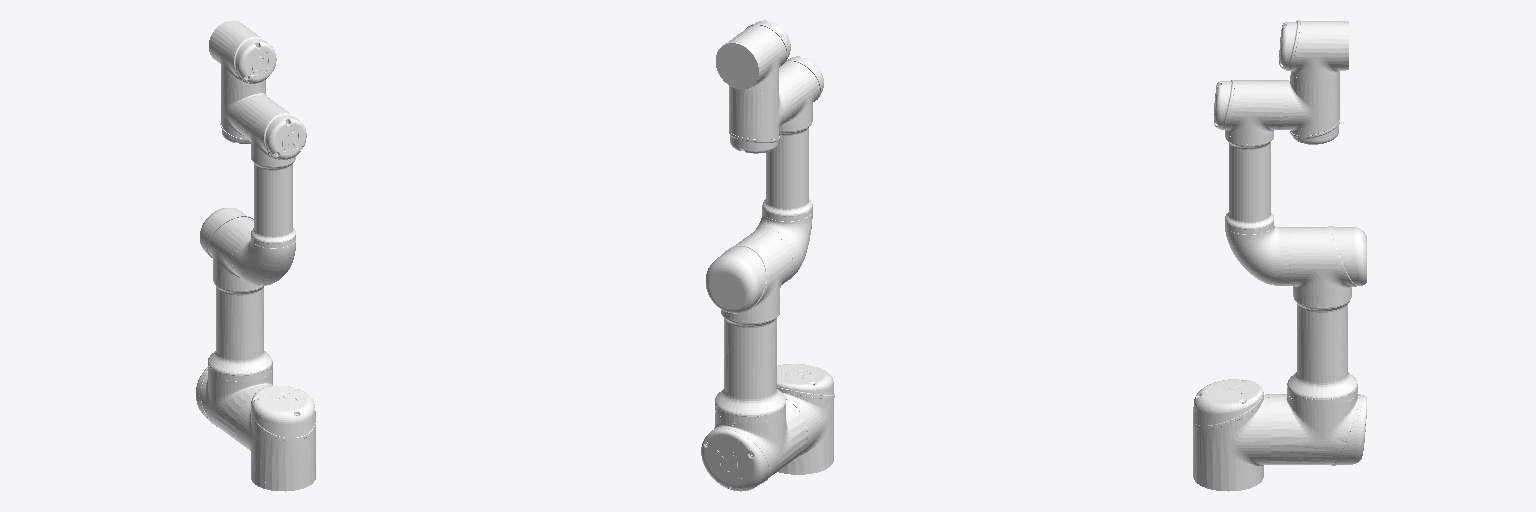
robot.urdf — UR3:
<robot
  name="UR3">
  <link
    name="base_link">
    <inertial>
      <origin
        xyz="3.9271E-05 0.04622 0.00080839"
        rpy="0 0 0" />
      <mass
        value="0.61579" />
      <inertia
        ixx="0.00079865"
        ixy="9.7917E-07"
        ixz="-1.4612E-06"
        iyy="0.001032"
        iyz="1.9027E-05"
        izz="0.00078297" />
    </inertial>
    <visual>
      <origin
        xyz="0 0 0"
        rpy="0 0 0" />
      <geometry>
        <mesh
          filename="package://UR3/meshes/base_link.STL" />
      </geometry>
      <material
        name="">
        <color
          rgba="1 1 1 1" />
      </material>
    </visual>
    <collision>
      <origin
        xyz="0 0 0"
        rpy="0 0 0" />
      <geometry>
        <mesh
          filename="package://UR3/meshes/base_link.STL" />
      </geometry>
    </collision>
  </link>
  <link
    name="link1">
    <inertial>
      <origin
        xyz="-1.0714E-05 0.055942 0.0073314"
        rpy="0 0 0" />
      <mass
        value="0.75586" />
      <inertia
        ixx="0.0012076"
        ixy="1.5182E-07"
        ixz="1.1041E-07"
        iyy="0.00091335"
        iyz="-0.00010158"
        izz="0.0011222" />
    </inertial>
    <visual>
      <origin
        xyz="0 0 0"
        rpy="0 0 0" />
      <geometry>
        <mesh
          filename="package://UR3/meshes/link1.STL" />
      </geometry>
      <material
        name="">
        <color
          rgba="1 1 1 1" />
      </material>
    </visual>
    <collision>
      <origin
        xyz="0 0 0"
        rpy="0 0 0" />
      <geometry>
        <mesh
          filename="package://UR3/meshes/link1.STL" />
      </geometry>
    </collision>
  </link>
  <joint
    name="joint1"
    type="revolute">
    <origin
      xyz="0 0 0.0844"
      rpy="1.5708 5.6655E-16 -3.1416" />
    <parent
      link="base_link" />
    <child
      link="link1" />
    <axis
      xyz="0 1 0" />
    <limit
      lower="-3.14"
      upper="3.14"
      effort="1000"
      velocity="1" />
  </joint>
  <link
    name="link2">
    <inertial>
      <origin
        xyz="-4.188E-06 0.064249 0.1057"
        rpy="0 0 0" />
      <mass
        value="1.8019" />
      <inertia
        ixx="0.01936"
        ixy="8.8945E-08"
        ixz="-7.4473E-07"
        iyy="0.018785"
        iyz="-0.0013523"
        izz="0.0021134" />
    </inertial>
    <visual>
      <origin
        xyz="0 0 0"
        rpy="0 0 0" />
      <geometry>
        <mesh
          filename="package://UR3/meshes/link2.STL" />
      </geometry>
      <material
        name="">
        <color
          rgba="1 1 1 1" />
      </material>
    </visual>
    <collision>
      <origin
        xyz="0 0 0"
        rpy="0 0 0" />
      <geometry>
        <mesh
          filename="package://UR3/meshes/link2.STL" />
      </geometry>
    </collision>
  </link>
  <joint
    name="joint2"
    type="revolute">
    <origin
      xyz="0 0.0675 0.05235"
      rpy="1.5708 0 -3.1416" />
    <parent
      link="link1" />
    <child
      link="link2" />
    <axis
      xyz="0 -1 0" />
    <limit
      lower="-3.14"
      upper="3.14"
      effort="1000"
      velocity="1" />
  </joint>
  <link
    name="link3">
    <inertial>
      <origin
        xyz="-0.0051445 -0.1112 7.0153E-08"
        rpy="0 0 0" />
      <mass
        value="0.96225" />
      <inertia
        ixx="0.0071078"
        ixy="0.00058643"
        ixz="8.7729E-10"
        iyy="0.00067153"
        iyz="5.7985E-09"
        izz="0.0072945" />
    </inertial>
    <visual>
      <origin
        xyz="0 0 0"
        rpy="0 0 0" />
      <geometry>
        <mesh
          filename="package://UR3/meshes/link3.STL" />
      </geometry>
      <material
        name="">
        <color
          rgba="1 1 1 1" />
      </material>
    </visual>
    <collision>
      <origin
        xyz="0 0 0"
        rpy="0 0 0" />
      <geometry>
        <mesh
          filename="package://UR3/meshes/link3.STL" />
      </geometry>
    </collision>
  </link>
  <joint
    name="joint3"
    type="revolute">
    <origin
      xyz="0 -0.02535 0.24365"
      rpy="-1.5708 7.4983E-33 -1.5708" />
    <parent
      link="link2" />
    <child
      link="link3" />
    <axis
      xyz="1 0 0" />
    <limit
      lower="-3.14"
      upper="3.14"
      effort="1000"
      velocity="1" />
  </joint>
  <link
    name="link4">
    <inertial>
      <origin
        xyz="0.0059213 -0.00051763 2.6076E-07"
        rpy="0 0 0" />
      <mass
        value="0.32523" />
      <inertia
        ixx="0.00026155"
        ixy="1.7566E-06"
        ixz="-1.985E-09"
        iyy="0.00020549"
        iyz="-4.0128E-10"
        izz="0.00029955" />
    </inertial>
    <visual>
      <origin
        xyz="0 0 0"
        rpy="0 0 0" />
      <geometry>
        <mesh
          filename="package://UR3/meshes/link4.STL" />
      </geometry>
      <material
        name="">
        <color
          rgba="1 1 1 1" />
      </material>
    </visual>
    <collision>
      <origin
        xyz="0 0 0"
        rpy="0 0 0" />
      <geometry>
        <mesh
          filename="package://UR3/meshes/link4.STL" />
      </geometry>
    </collision>
  </link>
  <joint
    name="joint4"
    type="revolute">
    <origin
      xyz="-0.0834 -0.213 0"
      rpy="-3.1416 -4.9304E-32 -7.4983E-33" />
    <parent
      link="link3" />
    <child
      link="link4" />
    <axis
      xyz="1 0 0" />
    <limit
      lower="-3.14"
      upper="3.14"
      effort="1000"
      velocity="1" />
  </joint>
  <link
    name="link5">
    <inertial>
      <origin
        xyz="0.0059213 0.00051762 -2.3715E-07"
        rpy="0 0 0" />
      <mass
        value="0.32523" />
      <inertia
        ixx="0.00026155"
        ixy="-1.7566E-06"
        ixz="1.9216E-09"
        iyy="0.00020549"
        iyz="-2.2402E-10"
        izz="0.00029955" />
    </inertial>
    <visual>
      <origin
        xyz="0 0 0"
        rpy="0 0 0" />
      <geometry>
        <mesh
          filename="package://UR3/meshes/link5.STL" />
      </geometry>
      <material
        name="">
        <color
          rgba="1 1 1 1" />
      </material>
    </visual>
    <collision>
      <origin
        xyz="0 0 0"
        rpy="0 0 0" />
      <geometry>
        <mesh
          filename="package://UR3/meshes/link5.STL" />
      </geometry>
    </collision>
  </link>
  <joint
    name="joint5"
    type="revolute">
    <origin
      xyz="0 0.0834 0"
      rpy="0 -3.8286E-16 -1.5708" />
    <parent
      link="link4" />
    <child
      link="link5" />
    <axis
      xyz="-1 0 0" />
    <limit
      lower="-3.14"
      upper="3.14"
      effort="1000"
      velocity="1" />
  </joint>
  <link
    name="link6">
    <inertial>
      <origin
        xyz="-3.46804228061008E-11 0.000103305759071359 -0.0210729037197397"
        rpy="0 0 0" />
      <mass
        value="0.115355247302088" />
      <inertia
        ixx="4.32035974170685E-05"
        ixy="5.78060845199704E-13"
        ixz="-1.19995191654452E-12"
        iyy="4.34162196022354E-05"
        iyz="1.08131269053668E-07"
        izz="5.90666750308093E-05" />
    </inertial>
    <visual>
      <origin
        xyz="0 0 0"
        rpy="0 0 0" />
      <geometry>
        <mesh
          filename="package://UR3/meshes/link6.STL" />
      </geometry>
      <material
        name="">
        <color
          rgba="1 1 1 1" />
      </material>
    </visual>
    <collision>
      <origin
        xyz="0 0 0"
        rpy="0 0 0" />
      <geometry>
        <mesh
          filename="package://UR3/meshes/link6.STL" />
      </geometry>
    </collision>
  </link>
  <joint
    name="joint6"
    type="revolute">
    <origin
      xyz="0 -0.0409 0"
      rpy="1.5708 -1.5708 0" />
    <parent
      link="link5" />
    <child
      link="link6" />
    <axis
      xyz="0 0 1" />
    <limit
      lower="-3.14"
      upper="3.14"
      effort="1000"
      velocity="1" />
  </joint>
</robot>

--- What the picture shows (computed from the rendered views, not written in the file) ---
Views: 3 orthographic renders of the robot side by side, from view 1: azimuth 30°, elevation 25°; view 2: azimuth 150°, elevation 25°; view 3: azimuth 270°, elevation 25°.
Model UR3 with 7 links and 6 joints (6 revolute), rooted at base_link, posed every joint at zero.
Visible links, largest first — view 1: link2, link3, link1, link5, link4; view 2: link2, link3, link1, link5, link4; view 3: link2, link3, link1, link5, link4.
Boxes of the visible links, <box> form: link2: <box>196,208,272,443</box>; link3: <box>232,97,306,285</box>; link1: <box>236,386,315,491</box>; link5: <box>209,20,276,88</box>; link4: <box>220,82,269,143</box>; link2: <box>701,231,807,491</box>; link3: <box>753,56,823,279</box>; link1: <box>777,364,834,474</box>; link5: <box>716,20,790,93</box>; link4: <box>729,84,791,153</box>; link2: <box>1271,226,1366,465</box>; link3: <box>1214,80,1288,285</box>; link1: <box>1193,379,1270,491</box>; link5: <box>1279,20,1348,84</box>; link4: <box>1283,75,1339,144</box>.
Size in the robot's own frame: 0.0913 by 0.2229 by 0.6382 metres.
Meshes: 7 distinct files referenced, 5 mesh visuals loaded (5 binary STL); not drawn: 2 (reference not matched to a file when rendering).